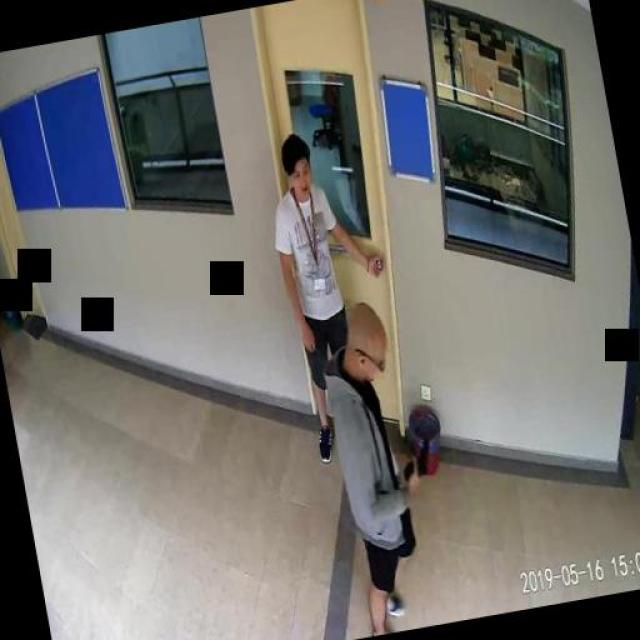gun: (395, 434, 433, 481)
